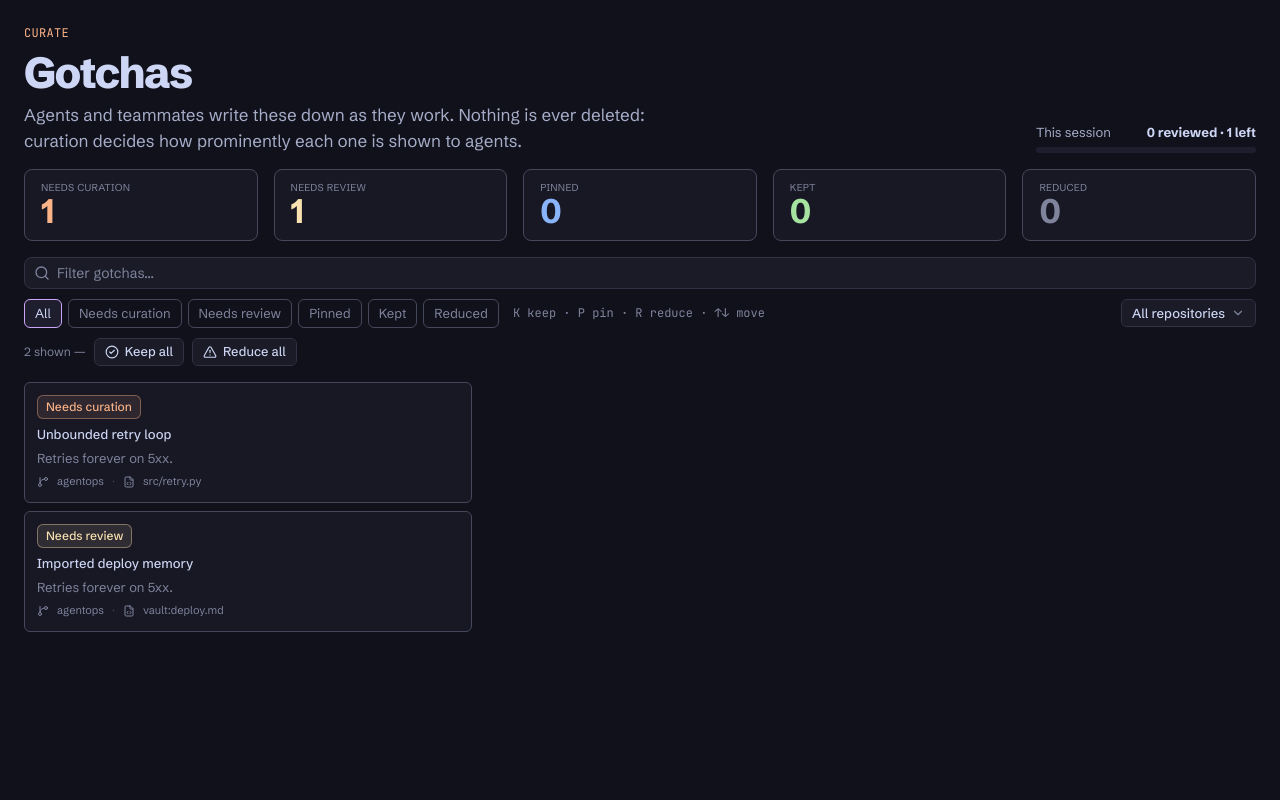
Test: GotchasPage › a needs-review memory gets its own tab, badge and count, not Needs curation
Check: the text "Imported deploy memory" is shown, box [37,554,193,572]
Step 1. Click the button "Needs review" → (240, 314), box [188,299,292,328]
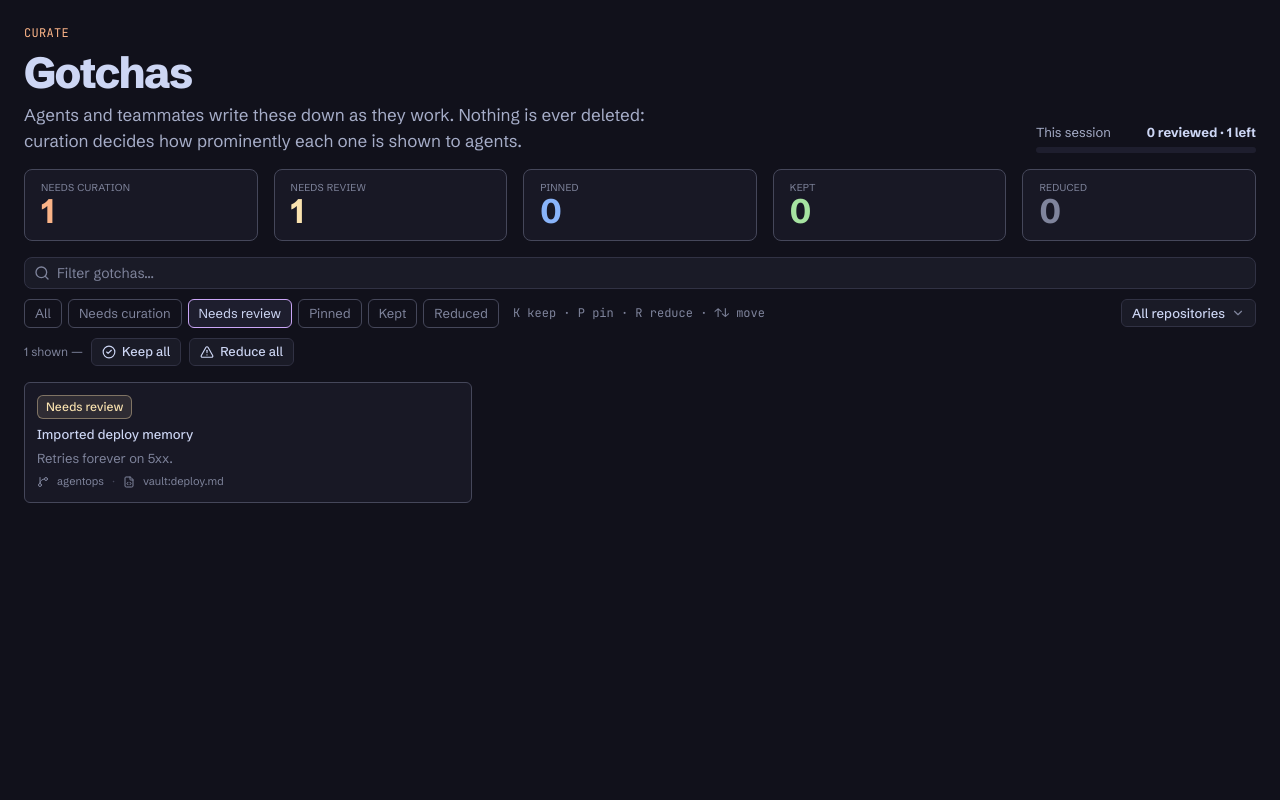
Check: the text "Imported deploy memory" is shown, box [37,425,193,443]
Check: the button "Unbounded retry loop" is gone
Step 2. Click the button "Needs curation" → (125, 314), box [68,299,182,328]
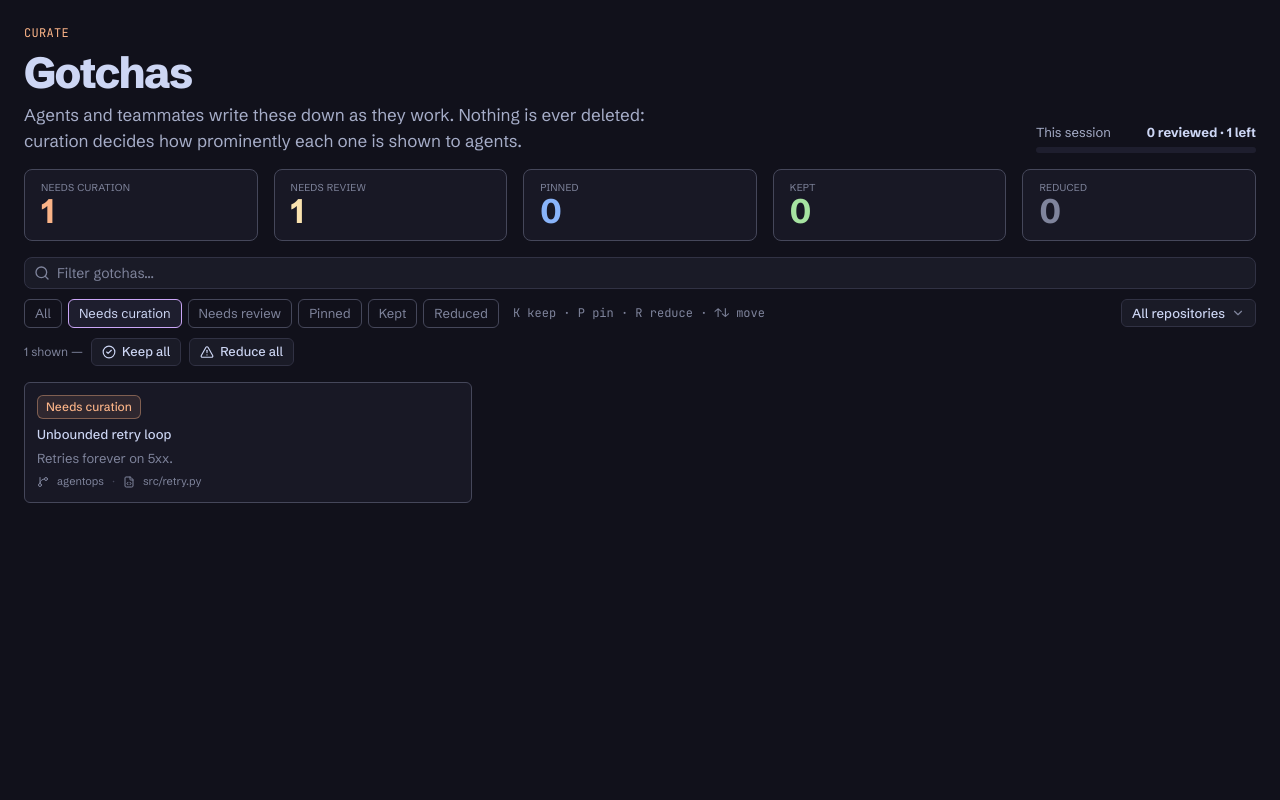
Check: the button "Imported deploy memory" is gone
